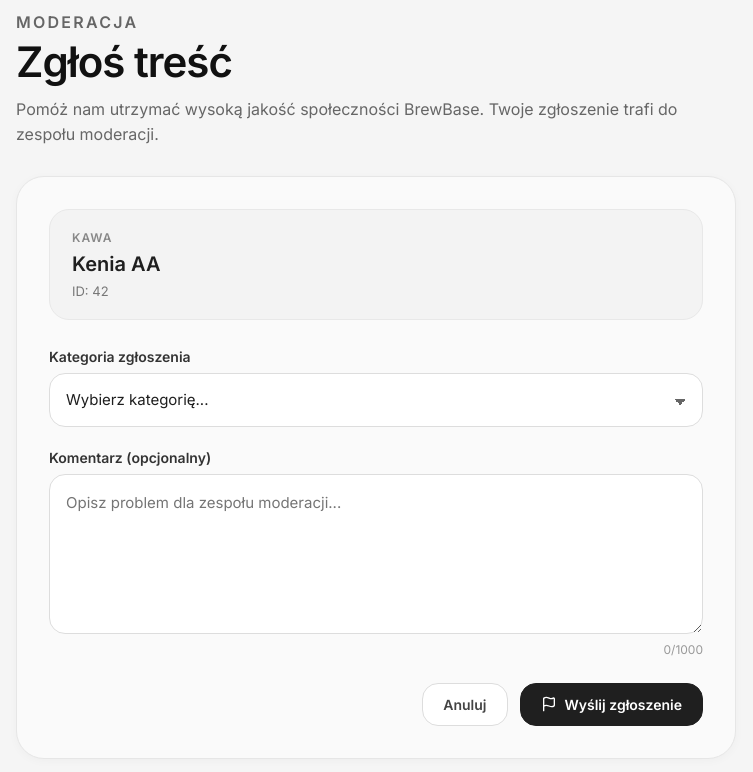
ReportPage › shows validation error when category is not selected
Check: the heading "Zgłoś treść" is shown, box [16,36,232,87]
Click the button "Wyślij zgłoszenie": click(611, 704) [520,683,703,726]
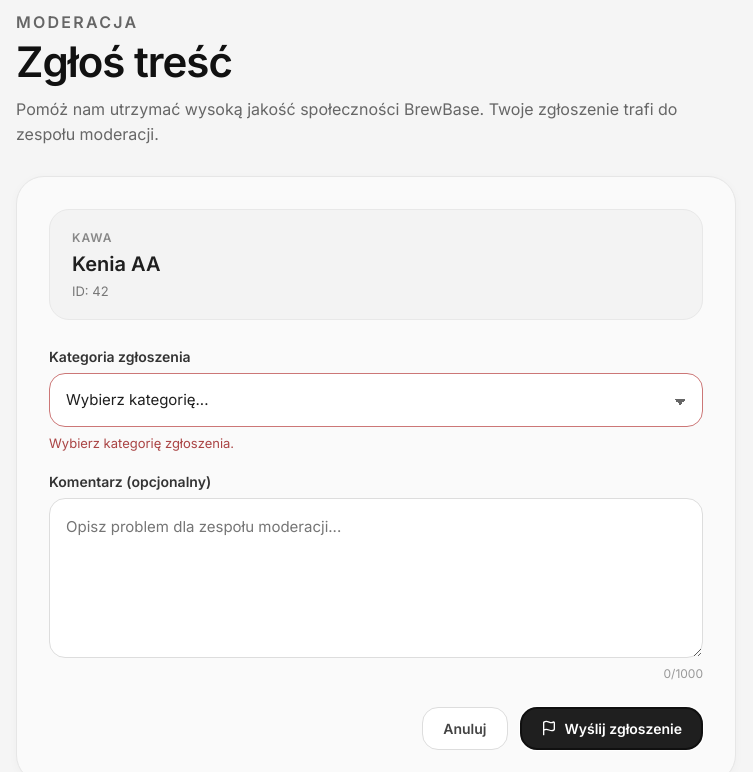
Check: the text "Wybierz kategorię zgłoszenia." is shown, box [49,435,234,451]
